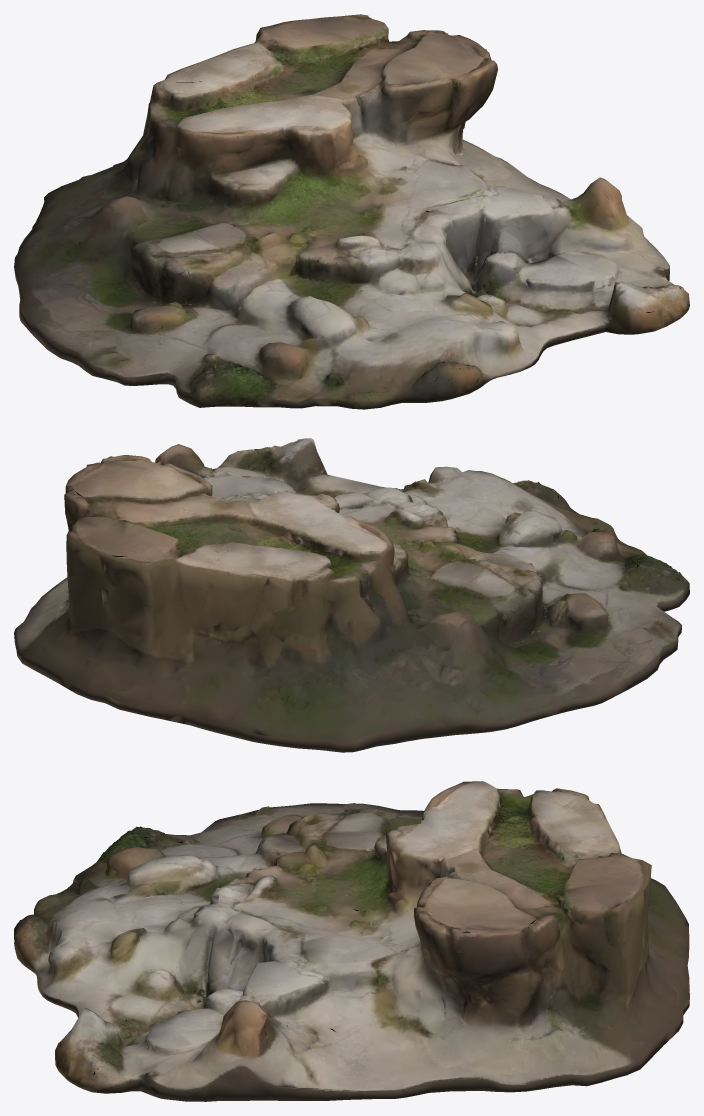
File: limestone_a.glb
The picture shows the model from 3 angles, top to bottom: view 1: azimuth 30°, elevation 25°; view 2: azimuth 150°, elevation 25°; view 3: azimuth 270°, elevation 25°; orthographic projection. The views are drawn at different scales.
Parts seen in each view (by area): view 1: limestone_a_00; view 2: limestone_a_00; view 3: limestone_a_00.
Part boxes in pixels (x1,y1,x2,y2): limestone_a_00: (14,14,689,409); limestone_a_00: (14,438,689,752); limestone_a_00: (14,781,689,1101).
Size of the model in its own units: 1.9 by 0.4574 by 1.9.
1 material, 1 textured.
